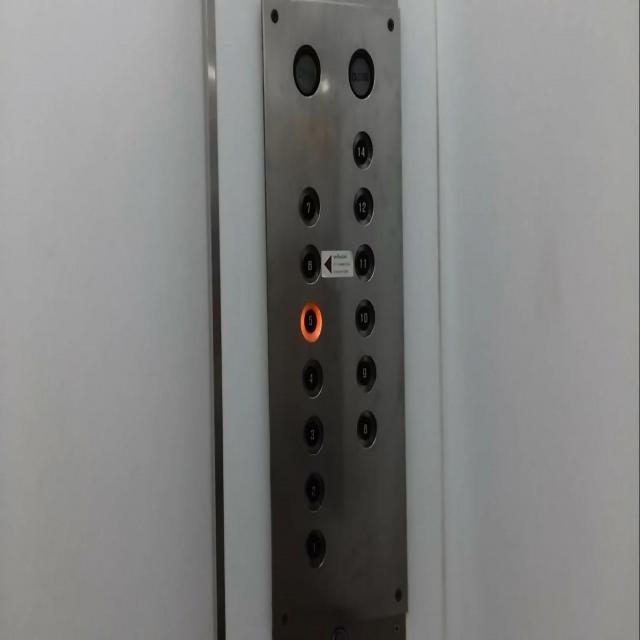1: (302, 525, 327, 569)
10: (354, 296, 376, 337)
11: (353, 242, 374, 282)
12: (352, 185, 374, 224)
14: (351, 130, 372, 168)
2: (302, 468, 325, 512)
3: (301, 413, 324, 455)
4: (300, 356, 322, 397)
5: (298, 299, 322, 341)
6: (297, 242, 321, 283)
7: (297, 183, 320, 227)
8: (354, 408, 376, 448)
9: (354, 353, 376, 394)
text_blur: (292, 42, 320, 98), (348, 48, 374, 99)
